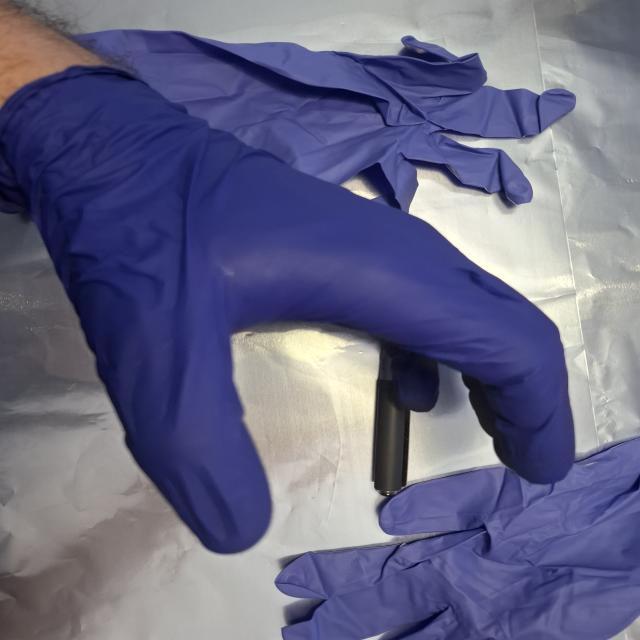glove_on: (0, 62, 579, 561)
